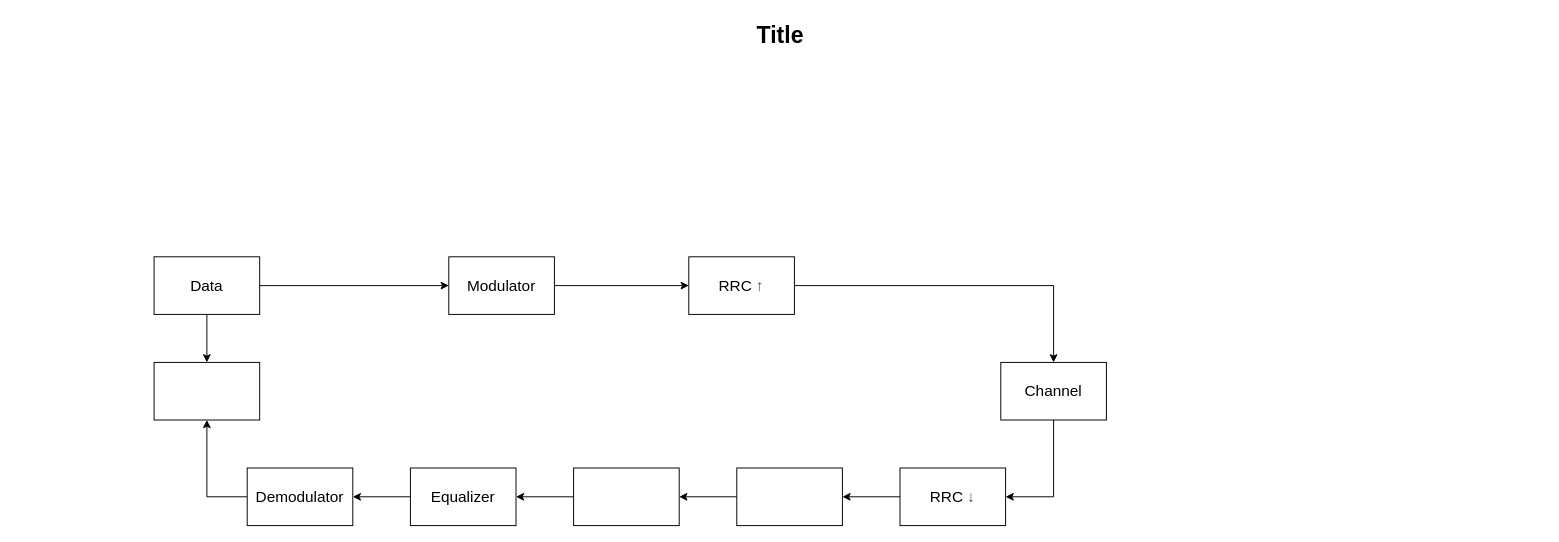
Image size: 1559x542. Some labels were removed from this diagram. The shapes that lost their labels are listed below. From the top down, each one's centre as x and y in pixels, then its label:
At (206,390): "BER".
At (626,496): "Preamble Detector".
At (789,496): "AGC".
